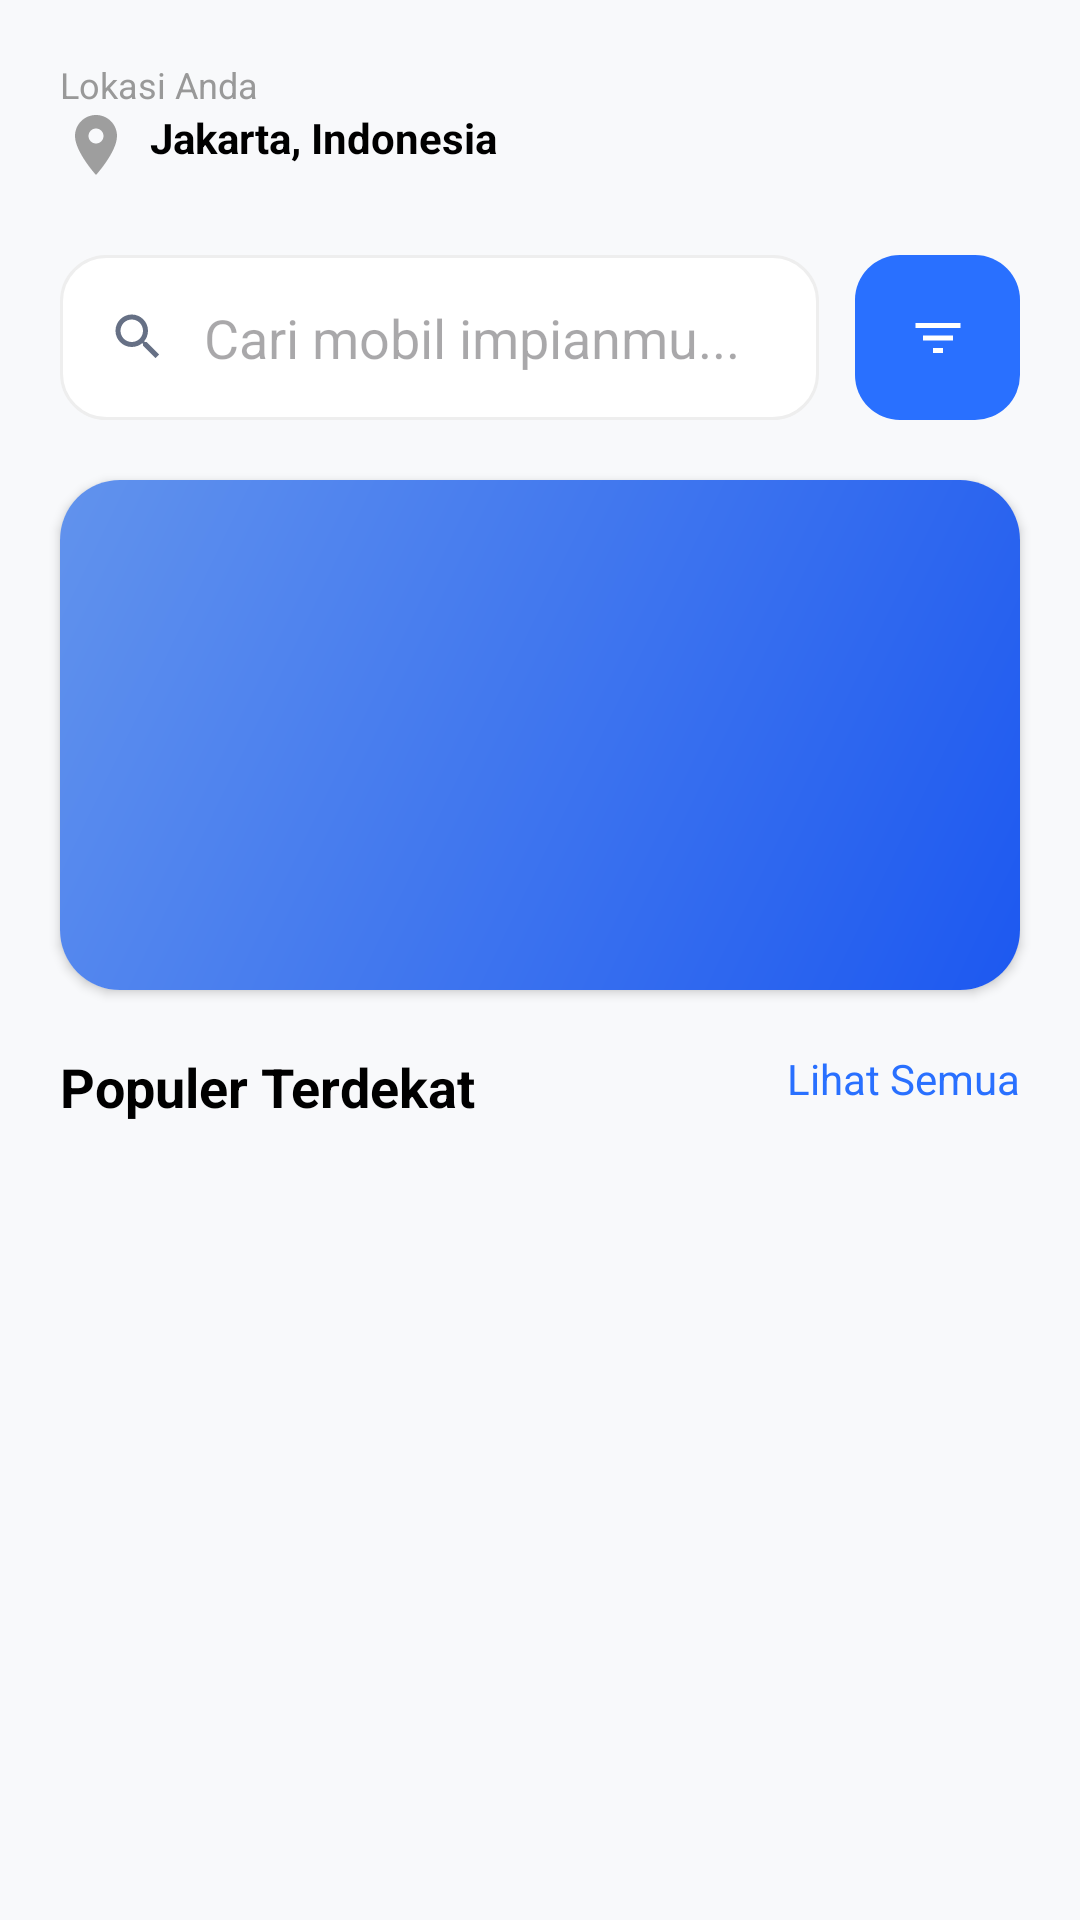

Screen size 1080x1920. Icon name, then its center in pixels as [x,y]:
Filter pencarian: [937,337]
